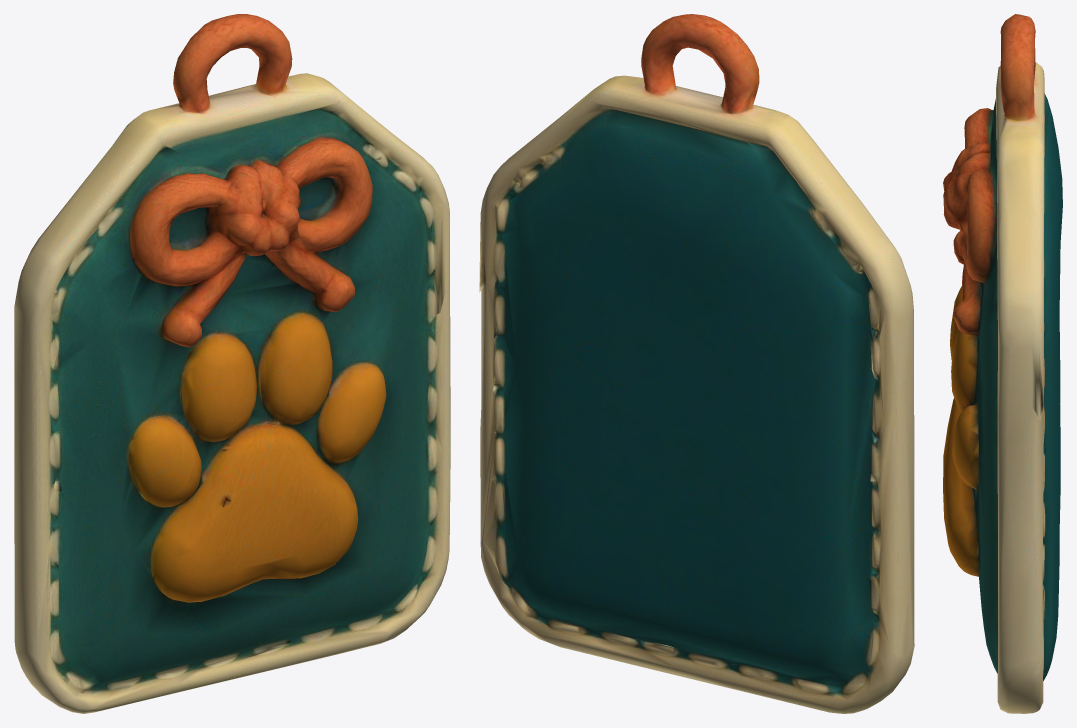
The model's file is item-charm-paw.glb.
The picture shows the model from 3 angles, left to right: view 1: azimuth 30°, elevation 25°; view 2: azimuth 150°, elevation 25°; view 3: azimuth 270°, elevation 25°; orthographic projection. The views are drawn at different scales.
Parts seen in each view (by area): view 1: Mesh_0; view 2: Mesh_0; view 3: Mesh_0.
Part boxes in pixels (left/top/right/bottom): Mesh_0: left=14, top=14, right=450, bottom=713; Mesh_0: left=479, top=14, right=914, bottom=713; Mesh_0: left=943, top=14, right=1062, bottom=713.
Bounding box in the file's own units: 1.35 × 2 × 0.349.
1 material, 1 textured.
